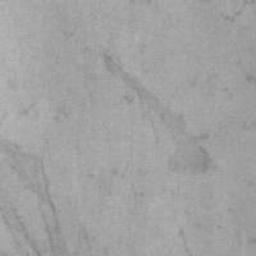Water spot: (100, 52, 212, 177), (0, 129, 73, 256)
